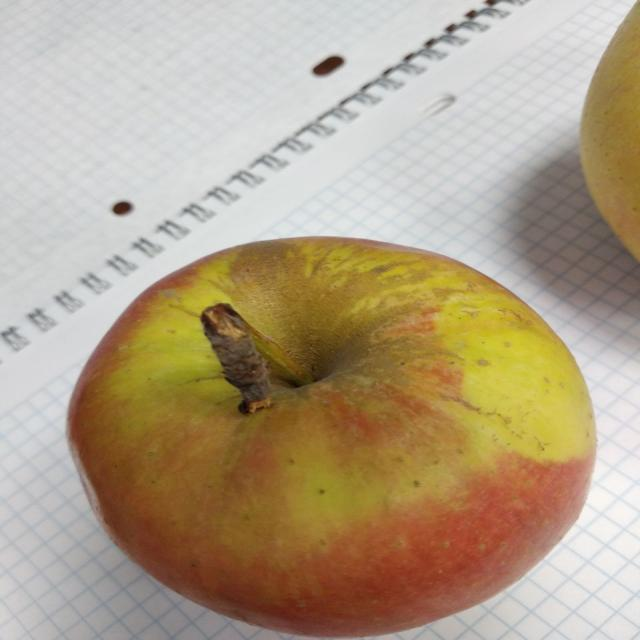Fresh Apple: (82, 255, 595, 625)
